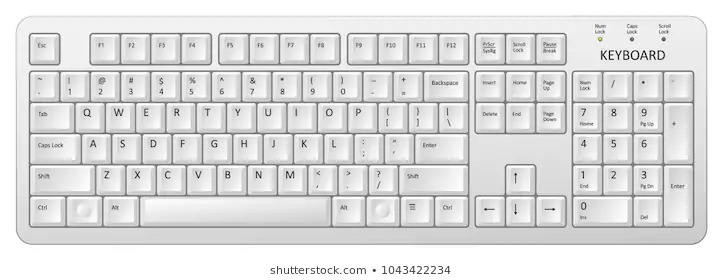keyboard: (7, 14, 711, 251)
